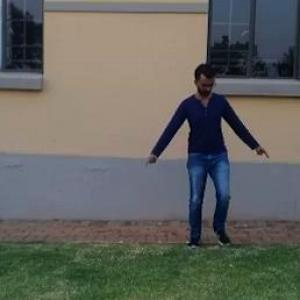land: (147, 52, 299, 271)
